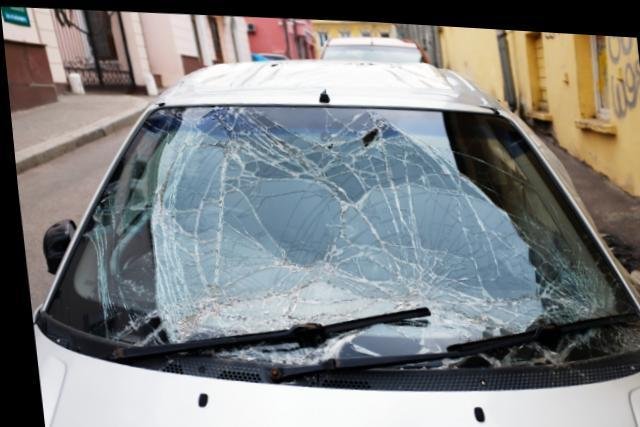glass shatter: (40, 103, 640, 365)
